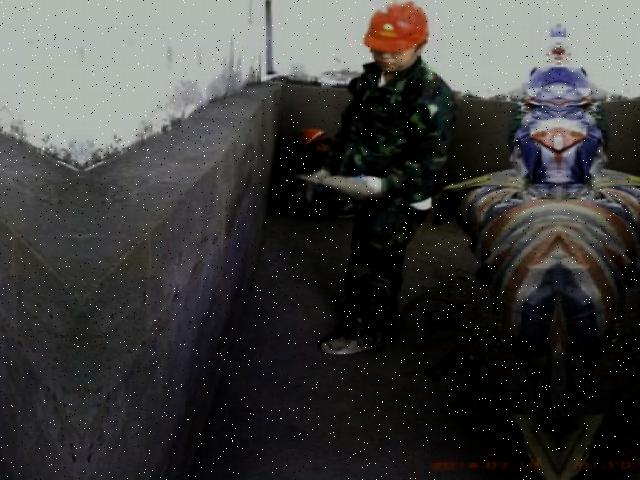Helmet: (356, 0, 436, 64)
